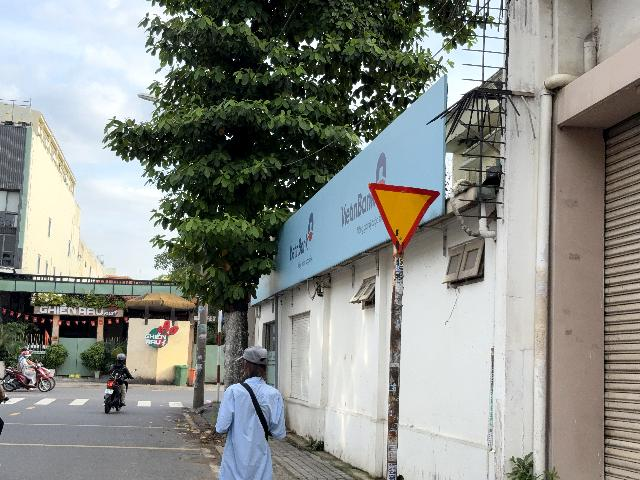giao-nhau-voi-duong-uu-tien: (368, 181, 440, 254)
